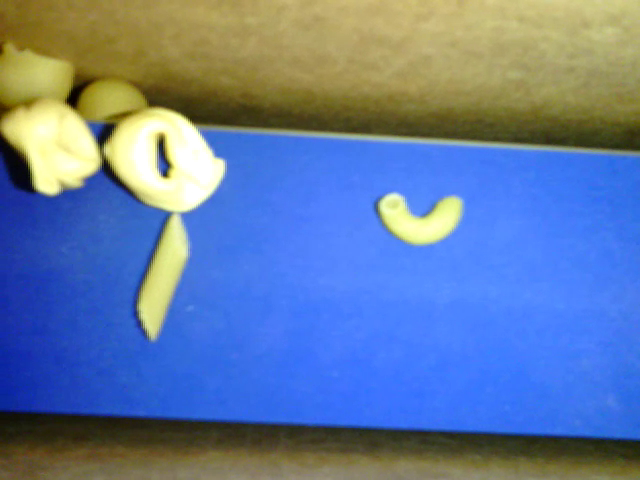elbow: (378, 193, 462, 246)
penne: (136, 213, 189, 340)
shell: (1, 41, 75, 108), (77, 77, 147, 121)
tortellini: (103, 105, 223, 212), (1, 98, 102, 196)
